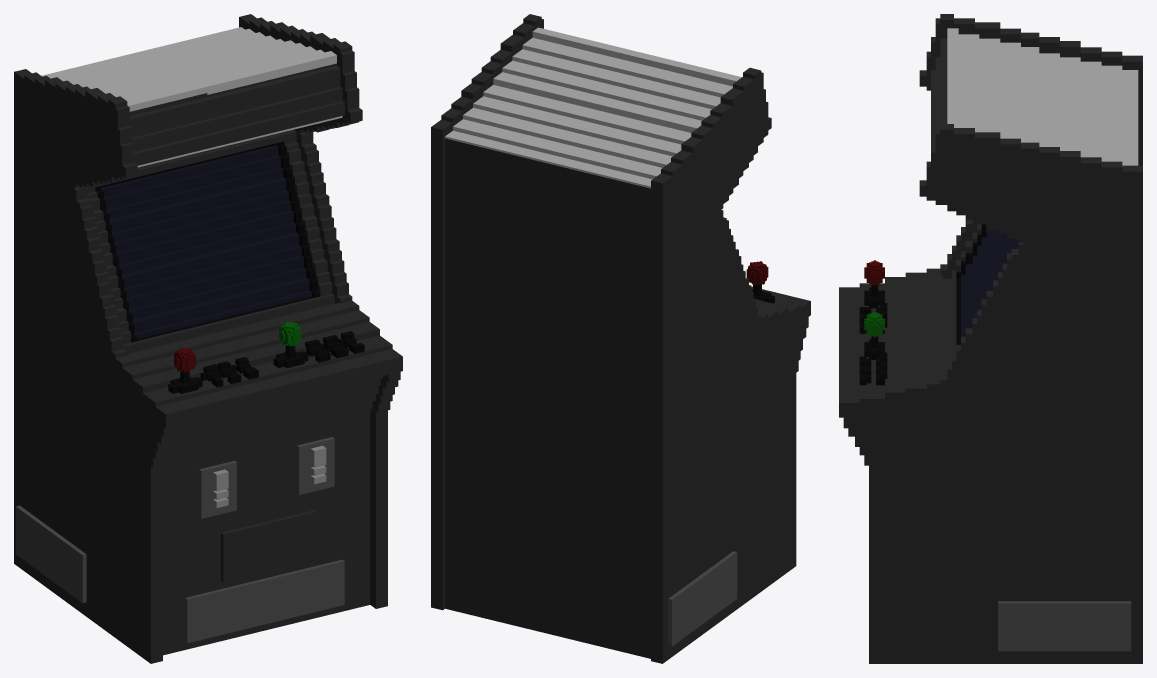
The picture shows the model from 3 angles, left to right: view 1: azimuth 30°, elevation 25°; view 2: azimuth 150°, elevation 25°; view 3: azimuth 270°, elevation 25°; orthographic projection. The views are drawn at different scales.
Visible parts, largest first — view 1: AnyConv; view 2: AnyConv; view 3: AnyConv.
Part boxes in pixels (box(x1,y1,x2,y2)): AnyConv: box(14, 14, 402, 663); AnyConv: box(431, 14, 810, 663); AnyConv: box(839, 14, 1142, 663).
Size of the model in its own units: 12.3 by 25.6 by 13.2.
Materials: 1 (1 with a texture image).
